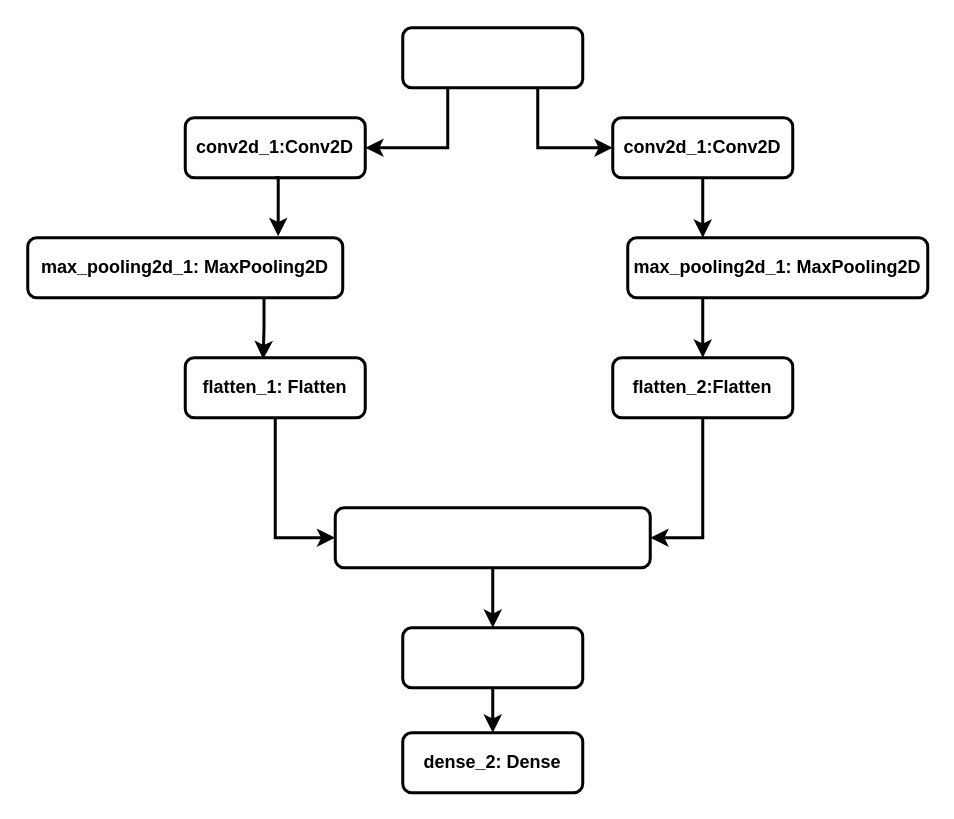
Image size: 954x819. Some labels were removed from this diagram. The shapes that lost their labels are listed below. From the top down, each one's centre as x and y in pixels, then its label:
point (492, 57): input_1 : Input Layer
point (492, 537): concatenate_1: Concatenate
point (492, 657): dense_1: Dense
